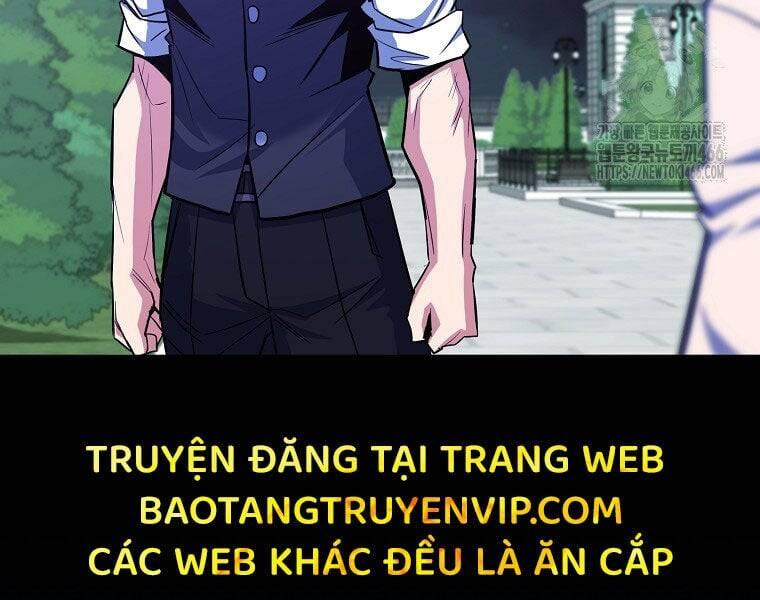quangcao: (84, 435, 676, 578)
